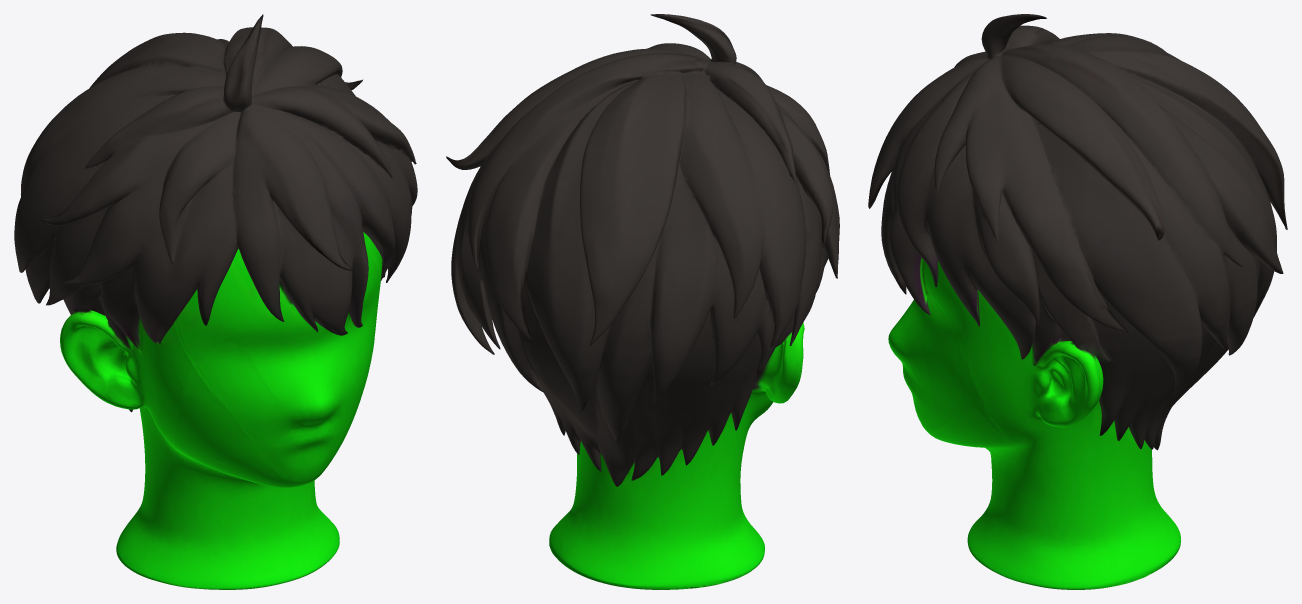
Rendered from hair-haru-short-v2.glb.
The picture shows the model from 3 angles, left to right: view 1: azimuth 30°, elevation 25°; view 2: azimuth 150°, elevation 25°; view 3: azimuth 270°, elevation 25°; orthographic projection. The views are drawn at different scales.
Parts seen in each view (by area): view 1: tripo_node_307ce2ef-06ad-4f2b-8b4b-58a1c3a9e0b2; view 2: tripo_node_307ce2ef-06ad-4f2b-8b4b-58a1c3a9e0b2; view 3: tripo_node_307ce2ef-06ad-4f2b-8b4b-58a1c3a9e0b2.
Part boxes in pixels (<box>): tripo_node_307ce2ef-06ad-4f2b-8b4b-58a1c3a9e0b2: <box>14,14,417,589</box>; tripo_node_307ce2ef-06ad-4f2b-8b4b-58a1c3a9e0b2: <box>446,14,839,589</box>; tripo_node_307ce2ef-06ad-4f2b-8b4b-58a1c3a9e0b2: <box>868,14,1287,589</box>.
Size of the model in its own units: 0.6859 by 0.9786 by 0.6964.
1 material, 1 textured.
